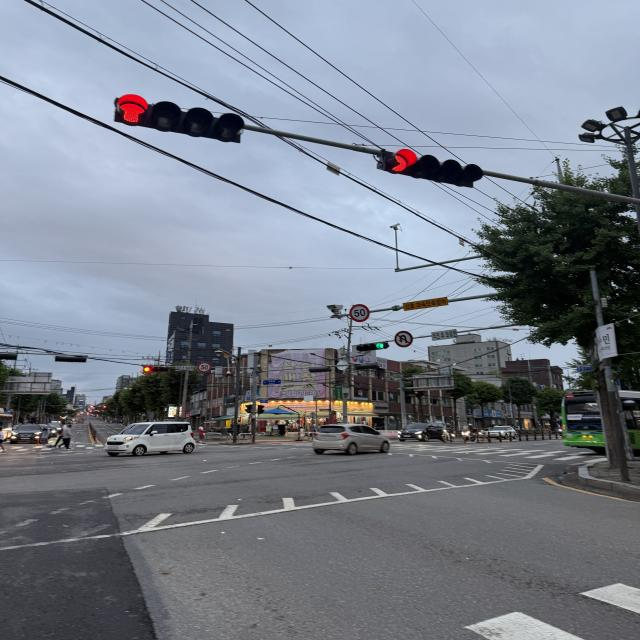car: (96, 414, 204, 462), (308, 420, 400, 458), (394, 420, 454, 445), (6, 420, 51, 447), (485, 424, 521, 440)
motorcycle: (458, 420, 481, 442)
